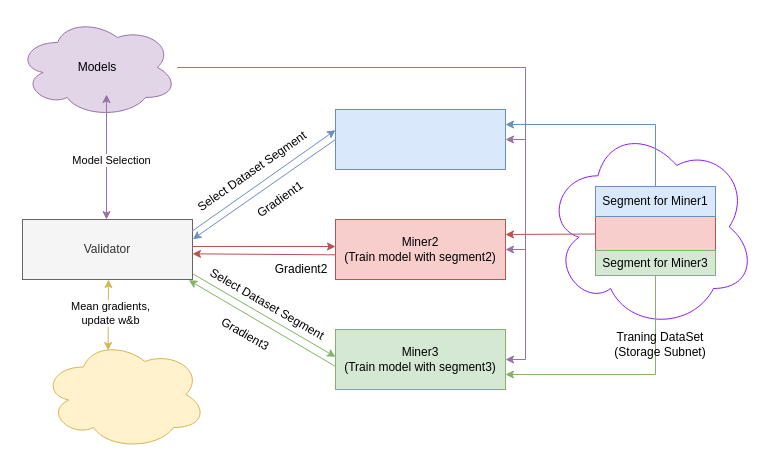
This 773x467 diagram has some shape labels left out. Each missing label, with the centre of its shape:
"Miner1 (Train model with segment1)" belongs at point (420, 139).
"Segment for Miner2" belongs at point (655, 234).
"Weights & Biases" belongs at point (124, 394).
